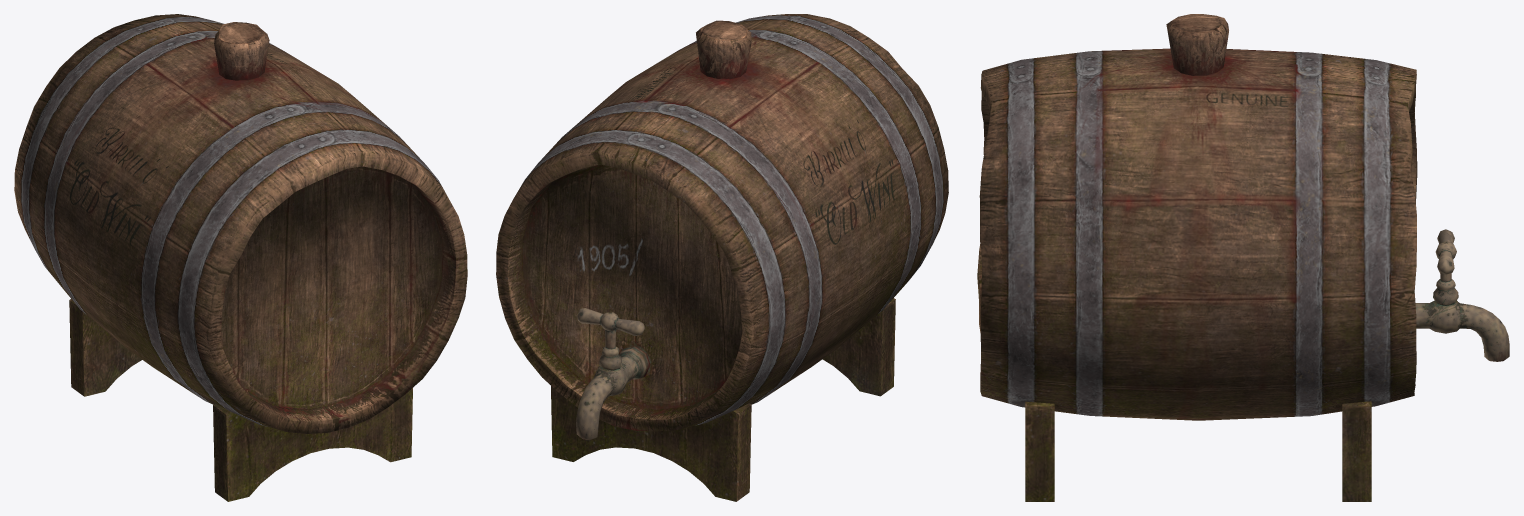
Rendered from old_barrel_of_wine.glb.
The picture shows the model from 3 angles, left to right: view 1: azimuth 30°, elevation 25°; view 2: azimuth 150°, elevation 25°; view 3: azimuth 270°, elevation 25°; orthographic projection. The views are drawn at different scales.
Parts seen in each view (by area): view 1: barrell_low, rack_low (×2), cork_low; view 2: barrell_low, rack_low (×2), tap_low, cork_low; view 3: barrell_low, rack_low (×2), tap_low, cork_low.
Boxes of the visible parts, left/top/right/bottom form: barrell_low: left=14, top=14, right=467, bottom=433; rack_low (×2): left=69, top=299, right=412, bottom=501; cork_low: left=214, top=22, right=269, bottom=80; barrell_low: left=496, top=14, right=948, bottom=431; rack_low (×2): left=551, top=298, right=895, bottom=501; tap_low: left=576, top=308, right=650, bottom=439; cork_low: left=696, top=20, right=751, bottom=79; barrell_low: left=977, top=48, right=1417, bottom=420; rack_low (×2): left=1025, top=401, right=1371, bottom=501; tap_low: left=1415, top=229, right=1509, bottom=361; cork_low: left=1166, top=14, right=1228, bottom=75.
Size of the model in its own units: 30.04 by 38.46 by 42.81.
1 material, 1 textured.
